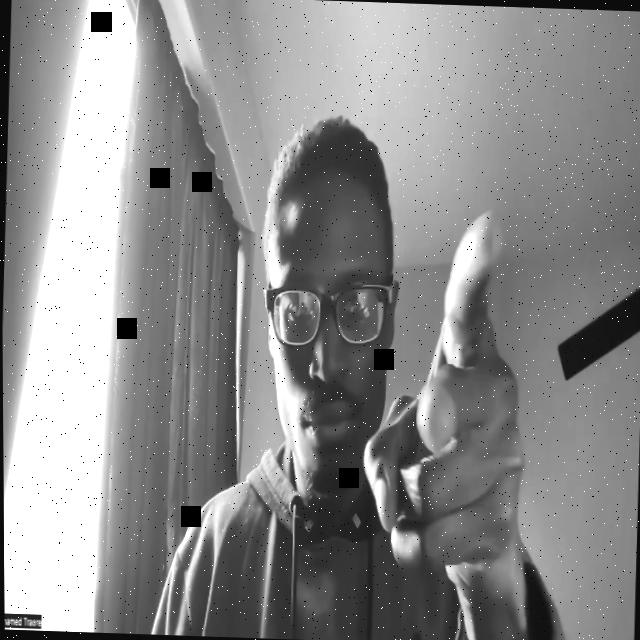Scissors: (356, 203, 536, 609)
